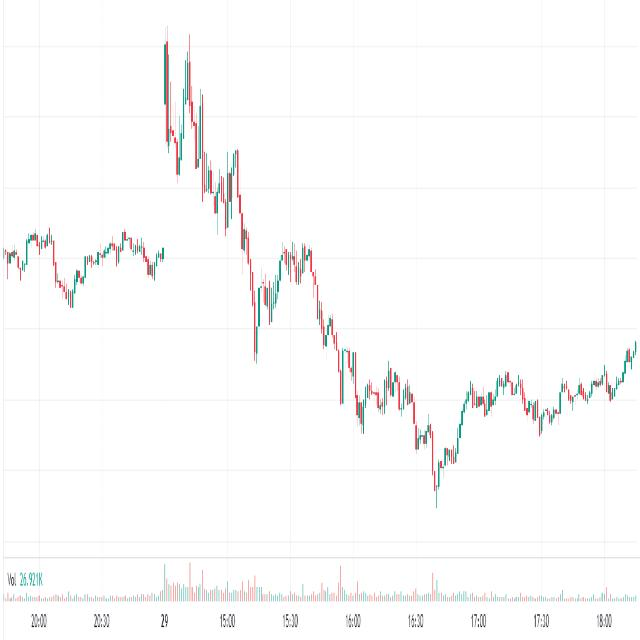Ascending-Triangle: (250, 272, 291, 391)
